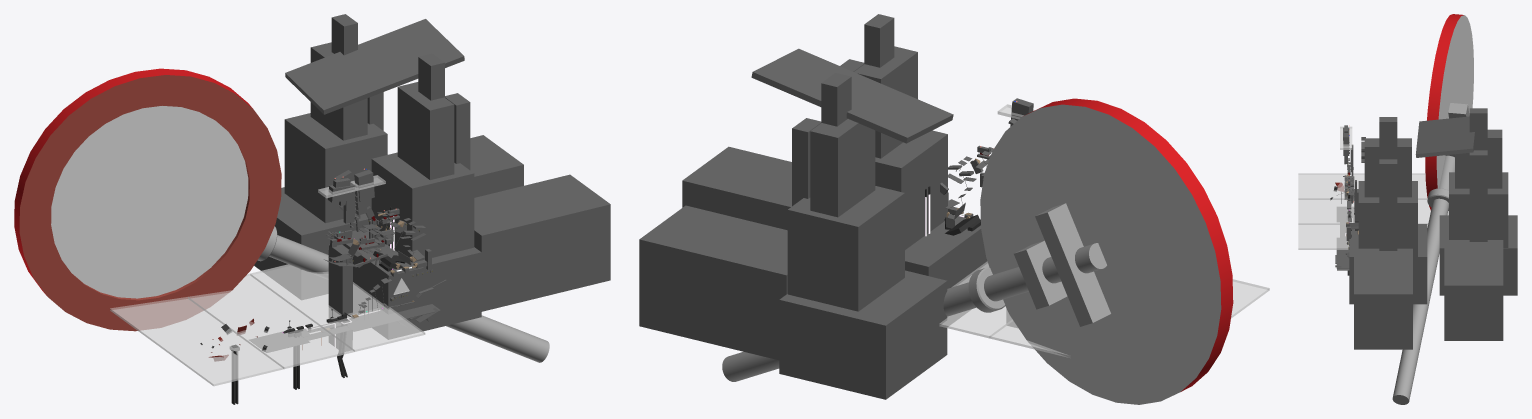
The model's file is 标示界内.fbx.
The picture shows the model from 3 angles, left to right: view 1: azimuth 30°, elevation 25°; view 2: azimuth 150°, elevation 25°; view 3: azimuth 270°, elevation 25°; orthographic projection. The views are drawn at different scales.
Visible parts, largest first — view 1: 立方体.003, Cube.204, Cube.235, Cube.248, Cube.170, Cube.155, Cube.163, Cube.336, Plane.002, Plane; view 2: 立方体.003, Cube.235, Cube.204, Cube.248, Cube.163, Cube.155, Cube.170; view 3: Cube.204, Cube.235, 立方体.003, Cube.248, Cube.155, Cube.170, Cube.163, Plane.003, Cube.358.
Part boxes in pixels (x1,y1,x2,y2): 立方体.003: (14,68,549,362); Cube.204: (334,53,610,339); Cube.235: (254,14,523,299); Cube.248: (285,19,464,114); Cube.170: (110,297,284,386); Cube.155: (188,273,354,368); Cube.163: (250,264,425,351); Cube.336: (328,244,352,351); Plane.002: (249,331,309,352); Plane: (347,308,396,331); 立方体.003: (722,98,1233,404); Cube.235: (639,73,947,399); Cube.204: (682,14,988,326); Cube.248: (751,48,953,143); Cube.163: (939,261,1012,338); Cube.155: (989,319,1069,357); Cube.170: (1070,279,1269,357); Cube.204: (1349,117,1427,349); Cube.235: (1439,108,1517,340); 立方体.003: (1392,14,1473,404); Cube.248: (1415,116,1475,157); Cube.155: (1298,198,1448,224); Cube.170: (1298,173,1427,199); Cube.163: (1298,223,1428,249); Plane.003: (1336,253,1349,268); Cube.358: (1340,126,1352,149).
Size of the model in its own units: 109621 by 71127 by 55541.
